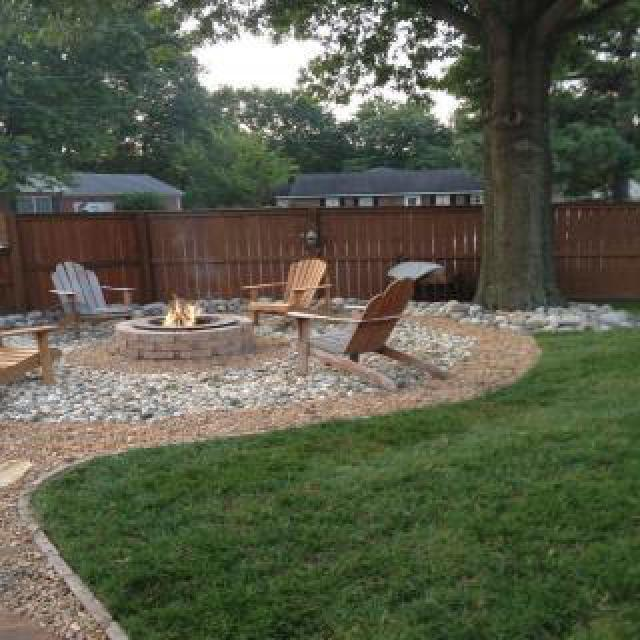Fire: (162, 296, 200, 332)
Smoke: (172, 216, 236, 292)
